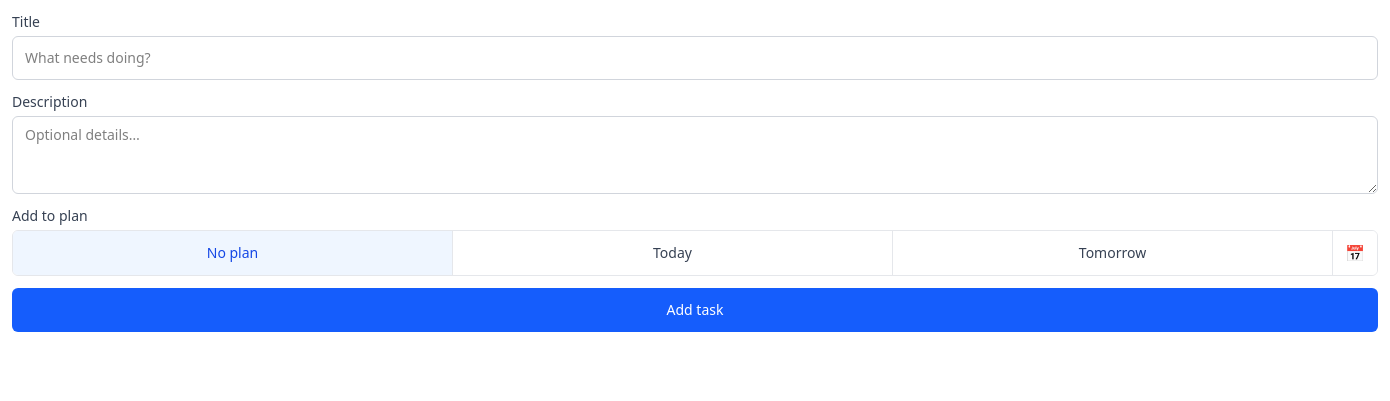
it: TaskForm — US2 date affordance › clicking the calendar icon reveals a date input
Check: the field labelled "pick a date" is not shown
Click the calendar (📅) button.
Click the radio button named "pick a specific date".
click(1355, 253)  # box [1333,231,1377,275]
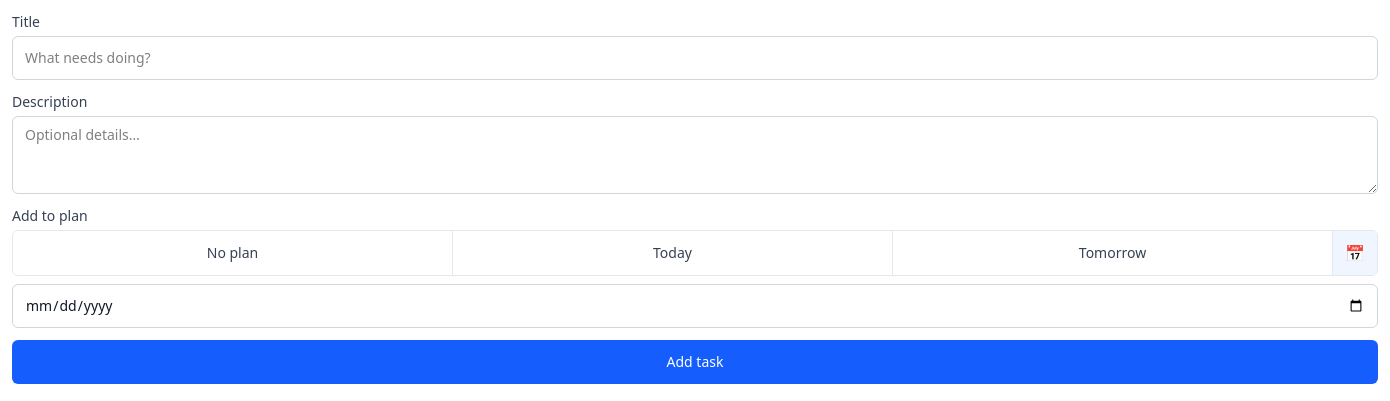
Check: the date field named "pick a date" is shown, box [12,284,1378,328]
